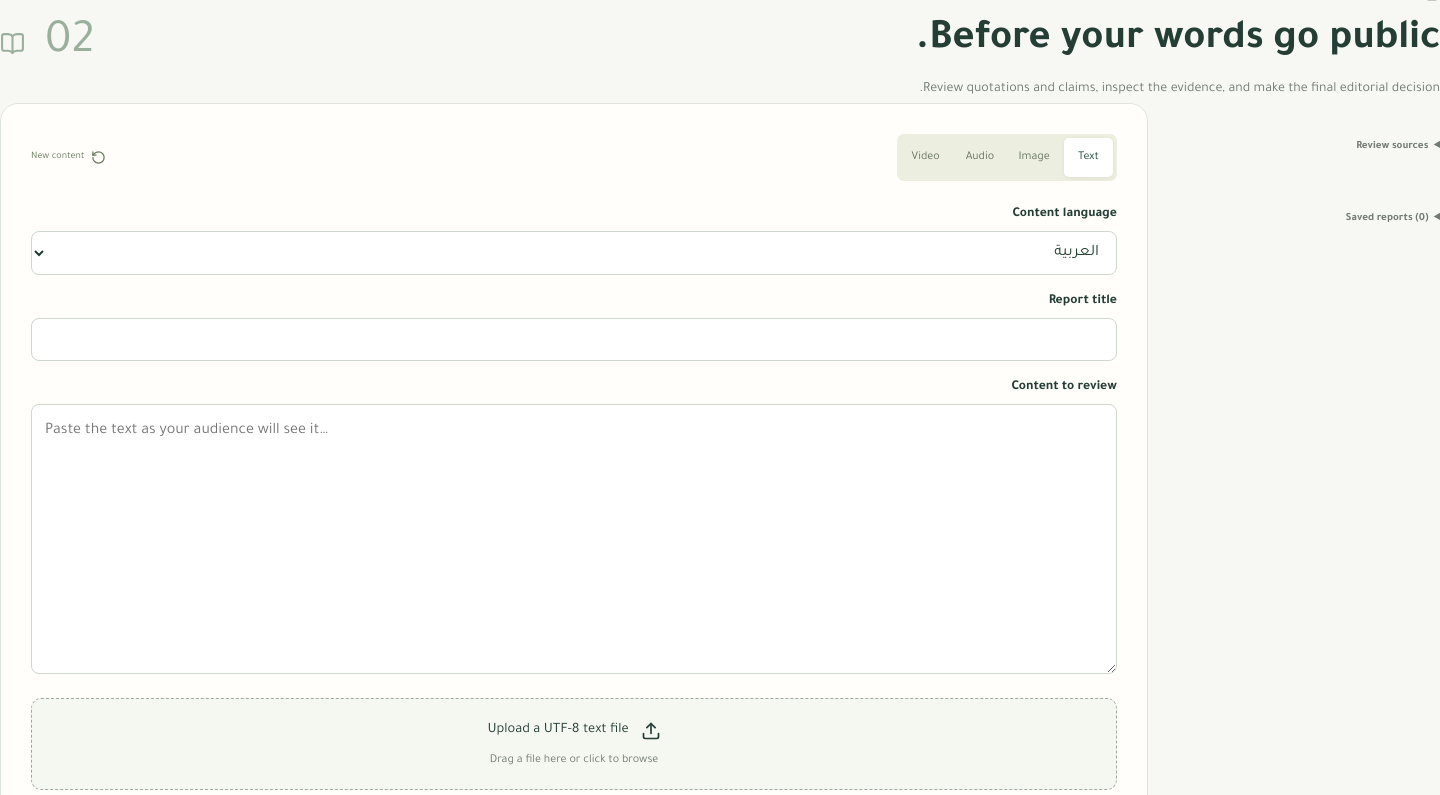
Scenario: disables draft export while extraction is pending
Type "112:1 «قل هو الله واحد»" into the text box labelled "Content to review" at (574, 539), box [31, 404, 1117, 674]
(page scrolled)
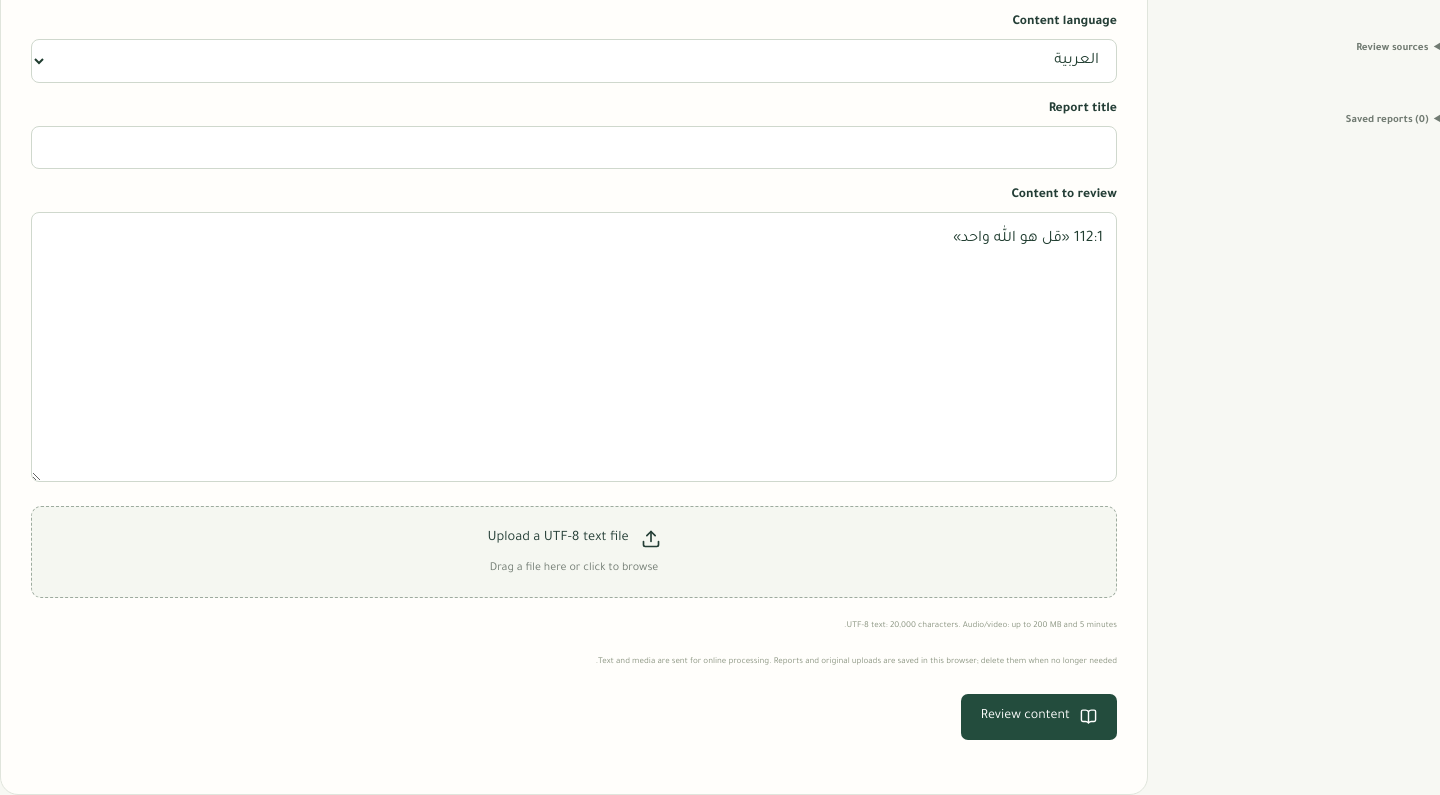
Click the button "Review content" at (1039, 717), box [961, 694, 1117, 740]
(page scrolled)
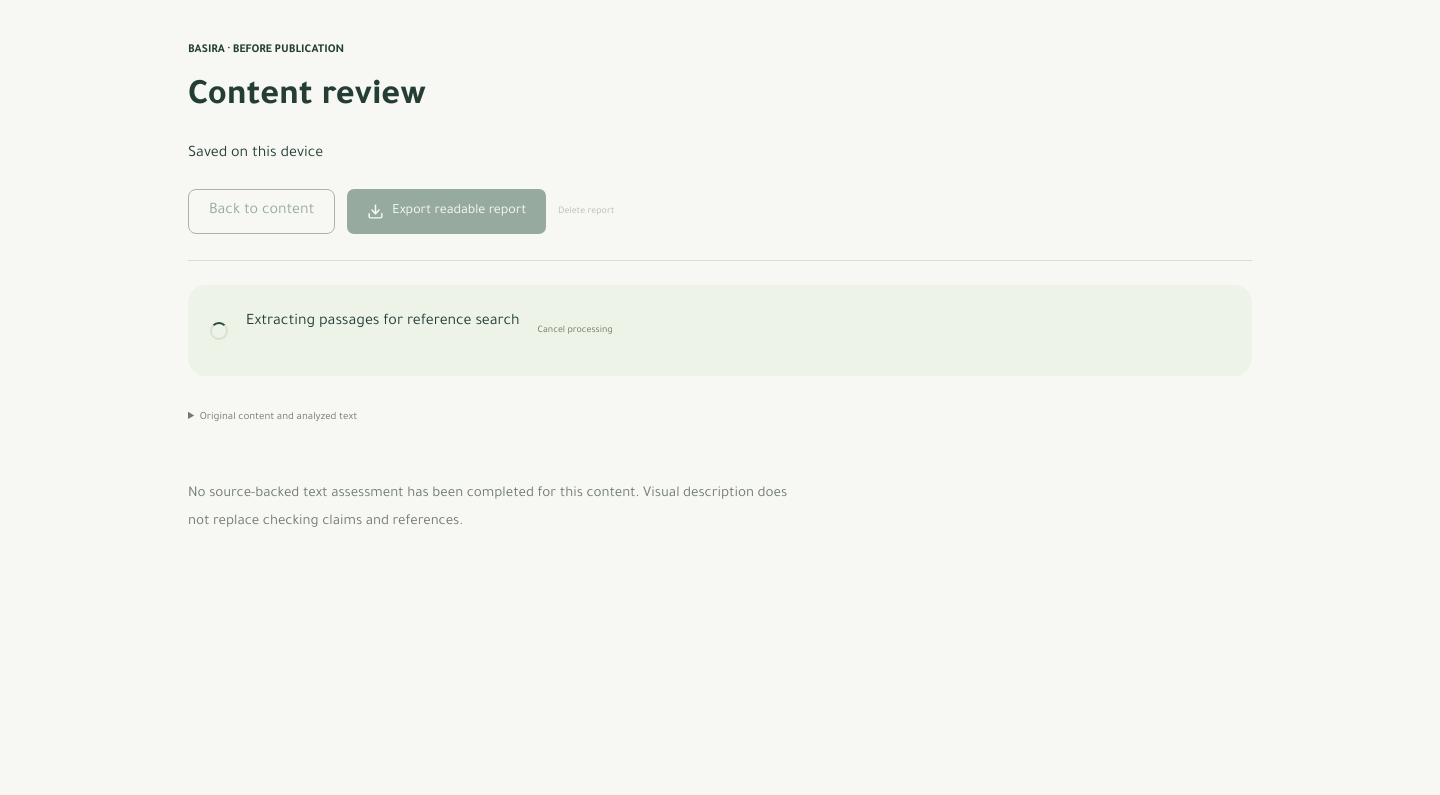
Result: the button "Export readable report" is disabled at [347, 189, 546, 234]
